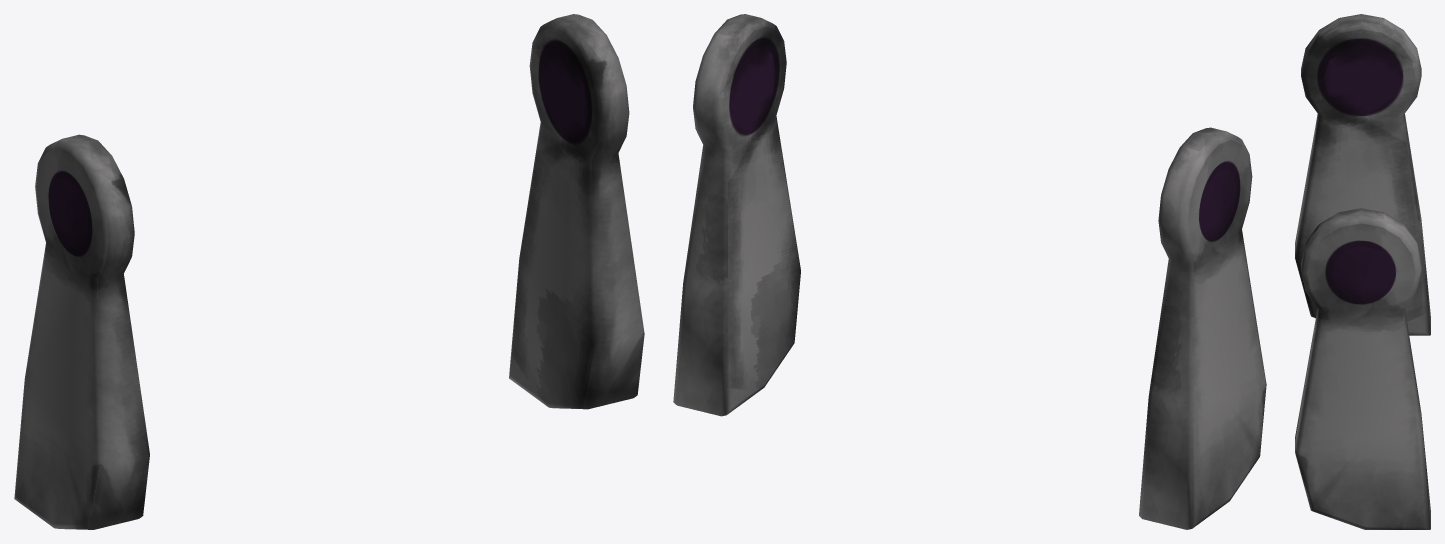
Rendered from Chariot03_chanzi_sunhui01.FBX.
3 views of the same model, side by side, from view 1: azimuth 30°, elevation 25°; view 2: azimuth 150°, elevation 25°; view 3: azimuth 270°, elevation 25° (orthographic). The views are drawn at different scales.
Visible parts, largest first — view 1: Chariot03_chanzi_sunhui01; view 2: Chariot03_chanzi_sunhui01; view 3: Chariot03_chanzi_sunhui01.
Part boxes in pixels (x1,y1,x2,y2): Chariot03_chanzi_sunhui01: (14, 14, 644, 529); Chariot03_chanzi_sunhui01: (673, 14, 1266, 529); Chariot03_chanzi_sunhui01: (1295, 14, 1430, 529).
Bounding box in the file's own units: 0.8669 × 0.5723 × 0.2287.
